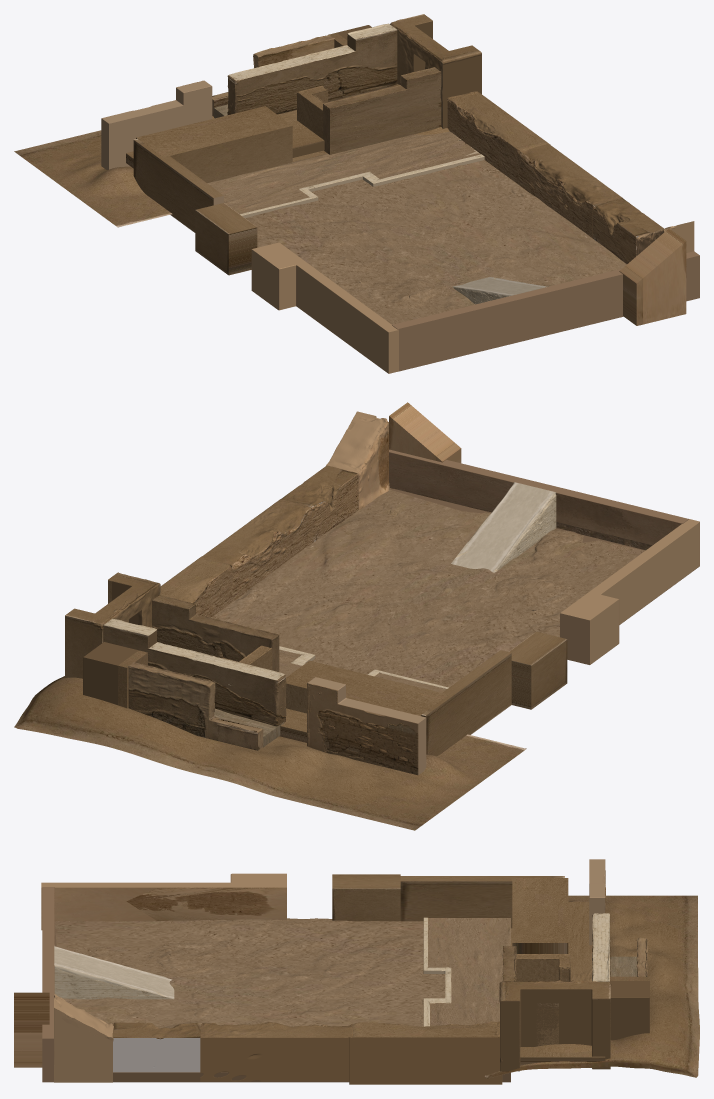
The model's file is Rampav8.glb.
3 renders of one model, top to bottom at view 1: azimuth 30°, elevation 25°; view 2: azimuth 150°, elevation 25°; view 3: azimuth 270°, elevation 25°, orthographic. The views are drawn at different scales.
Visible parts, largest first — view 1: Suelo, Muro5, MuroTrasero, Entrada2, MuroInterno, MuroLateralDerecho1, MuroLateralDerecho2, Plano.023, Suelo2, Plano, Plano.008, Habitacion (+6 smaller); view 2: Suelo, Suelo2, Muro5, MuroTrasero, MuroLateralDerecho2, MuroLateralDerecho1, Muro2, MuroInterno, Entrada, Rampa, Plano, Habitacion (+7 smaller); view 3: Suelo, Muro5, Suelo2, MuroLateralDerecho1, MuroLateralDerecho2, Entrada2, Habitacion, Rampa, Plano.018, Plano.023, Entrada1, Plano.008 (+8 smaller).
Boxes of the visible parts, x1,y1,x2,y2 form: Suelo: (245,132,626,324); Muro5: (447,91,663,263); MuroTrasero: (392,251,699,371); Entrada2: (207,131,484,218); MuroInterno: (227,23,397,114); MuroLateralDerecho1: (251,242,398,373); MuroLateralDerecho2: (133,139,257,275); Plano.023: (136,106,292,182); Suelo2: (14,84,478,227); Plano: (323,67,441,154); Plano.008: (619,228,686,325); Habitacion: (390,14,481,128); Suelo: (194,488,645,687); Suelo2: (14,676,526,830); Muro5: (160,465,358,617); MuroTrasero: (389,449,688,550); MuroLateralDerecho2: (421,631,567,756); MuroLateralDerecho1: (560,519,699,664); Muro2: (307,677,426,775); MuroInterno: (103,618,286,726); Entrada: (128,662,263,750); Rampa: (451,482,556,572); Plano: (152,595,279,671); Habitacion: (65,572,160,678); Suelo: (54,918,510,1082); Muro5: (112,1021,502,1084); Suelo2: (484,895,699,1078); MuroLateralDerecho1: (41,873,286,930); MuroLateralDerecho2: (332,874,564,928); Entrada2: (423,917,510,1026); Habitacion: (499,980,611,1071); Rampa: (54,945,174,999); Plano.018: (54,994,113,1082); Plano.023: (512,878,568,954); Entrada1: (520,902,605,1067); Plano.008: (14,992,49,1067).
Size of the model in its own units: 167 by 35.81 by 256.
17 materials, 17 textured.
